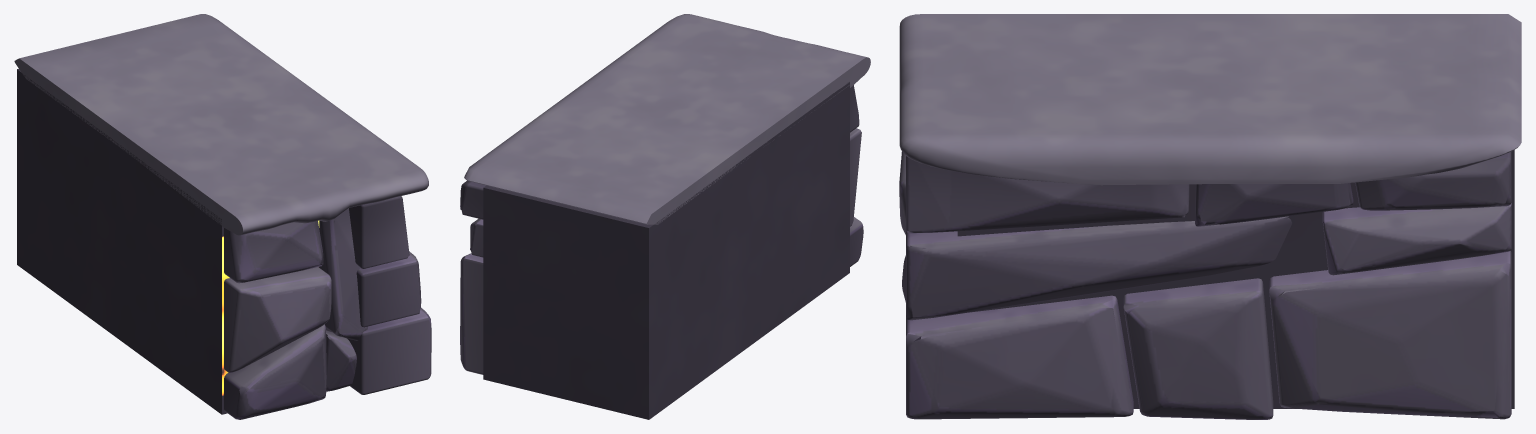
Rendered from EF_T03_BasaltEnd_R.fbx.
3 renders of one model, left to right at view 1: azimuth 30°, elevation 25°; view 2: azimuth 150°, elevation 25°; view 3: azimuth 270°, elevation 25°, orthographic. The views are drawn at different scales.
Parts seen in each view (by area): view 1: Rock, Crust; view 2: Rock, Crust; view 3: Rock, Crust.
Part boxes in pixels (x1,y1,x2,y2): Rock: [17, 68, 431, 419]; Crust: [14, 14, 428, 235]; Rock: [460, 82, 863, 419]; Crust: [464, 14, 870, 224]; Rock: [899, 150, 1514, 419]; Crust: [899, 14, 1521, 185].
Bounding box in the file's own units: 2 × 2 × 3.99.
